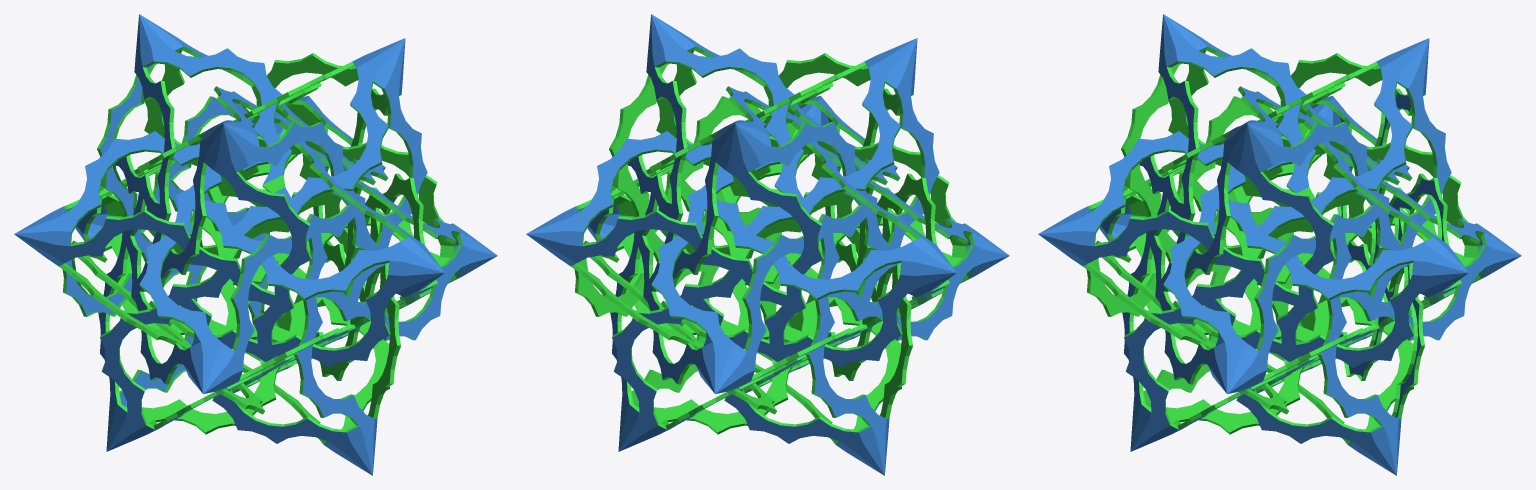
File: StarDodecahedronPolyknot4.glb
3 views of the same model, side by side, from view 1: azimuth 30°, elevation 25°; view 2: azimuth 150°, elevation 25°; view 3: azimuth 270°, elevation 25° (orthographic).
Parts seen in each view (by area): view 1: 3D_ESCHER_D_POLYKNOT_30Augmented_Penta_Prism; view 2: 3D_ESCHER_D_POLYKNOT_30Augmented_Penta_Prism; view 3: 3D_ESCHER_D_POLYKNOT_30Augmented_Penta_Prism.
Part boxes in pixels (bbox=[...]): 3D_ESCHER_D_POLYKNOT_30Augmented_Penta_Prism: bbox=[14, 14, 497, 475]; 3D_ESCHER_D_POLYKNOT_30Augmented_Penta_Prism: bbox=[526, 14, 1009, 475]; 3D_ESCHER_D_POLYKNOT_30Augmented_Penta_Prism: bbox=[1038, 14, 1521, 475].
Size of the model in its own units: 96.08 by 79.47 by 93.42.
